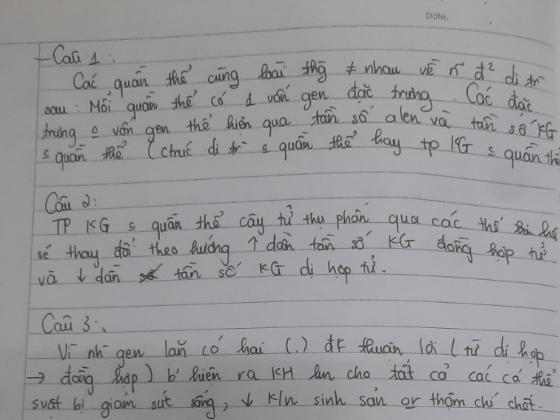text: (39, 127, 560, 178), (39, 102, 558, 150), (49, 198, 560, 243), (34, 227, 548, 270), (71, 56, 548, 100), (40, 79, 534, 121), (24, 360, 560, 398), (55, 331, 546, 370), (27, 387, 544, 420), (33, 253, 387, 290), (31, 42, 100, 70), (42, 190, 94, 219), (40, 310, 92, 338), (424, 10, 448, 22), (423, 0, 438, 3)
